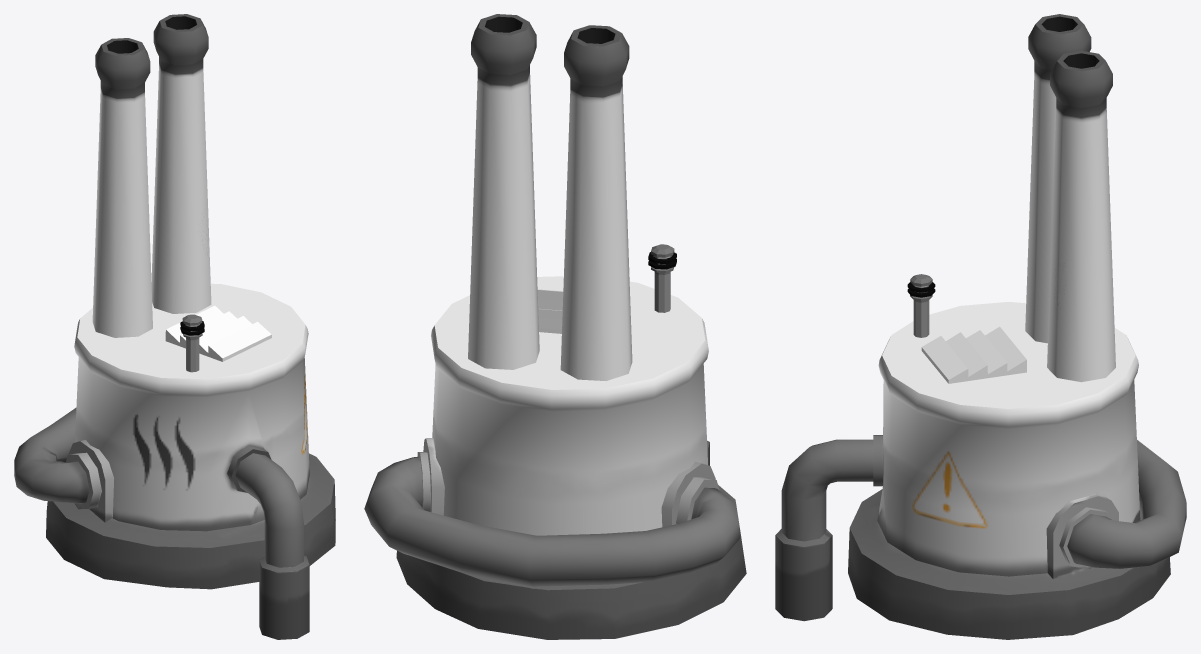
File: geothermalStation.fbx
The picture shows the model from 3 angles, left to right: view 1: azimuth 30°, elevation 25°; view 2: azimuth 150°, elevation 25°; view 3: azimuth 270°, elevation 25°; orthographic projection. The views are drawn at different scales.
Parts seen in each view (by area): view 1: Цилиндр; view 2: Цилиндр; view 3: Цилиндр.
Boxes of the visible parts, x1,y1,x2,y2 form: Цилиндр: [14, 14, 335, 639]; Цилиндр: [364, 14, 746, 639]; Цилиндр: [775, 14, 1186, 639].
Bounding box in the file's own units: 283 × 493 × 328.
Materials: 1 (1 with a texture image).
